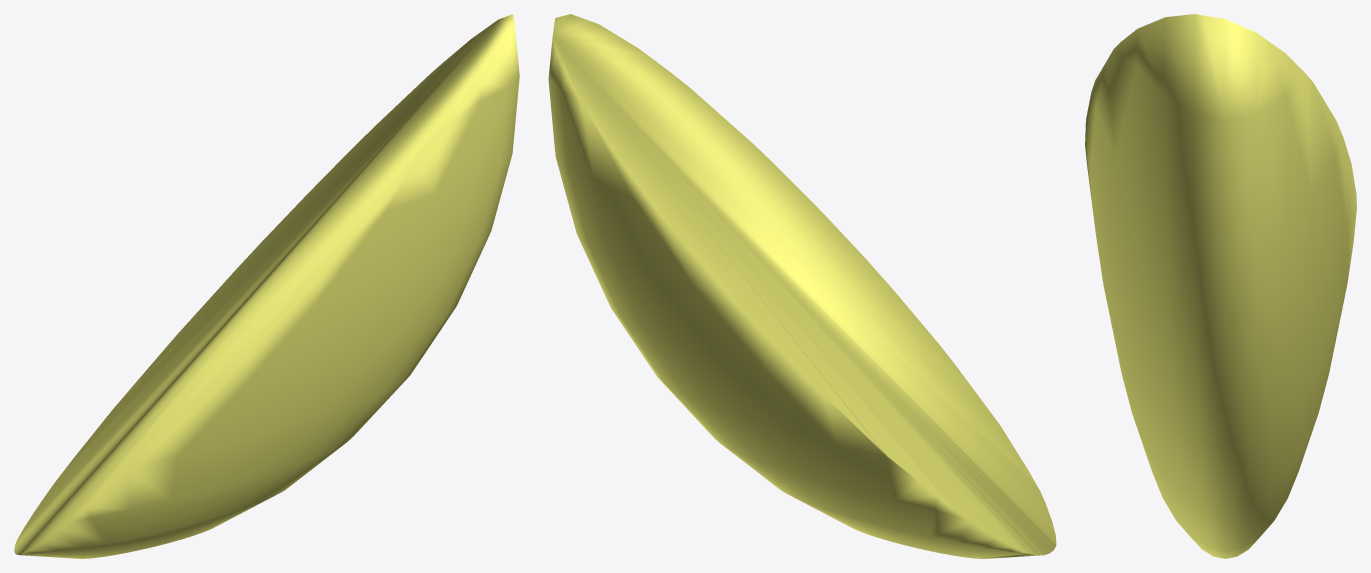
File: Pedazo3 1.fbx
3 renders of one model, left to right at view 1: azimuth 30°, elevation 25°; view 2: azimuth 150°, elevation 25°; view 3: azimuth 270°, elevation 25°, orthographic. The views are drawn at different scales.
Visible parts, largest first — view 1: Sphere.001; view 2: Sphere.001; view 3: Sphere.001.
Boxes of the visible parts, x1=… form: Sphere.001: x1=14, y1=14, x2=519, y2=558; Sphere.001: x1=548, y1=14, x2=1056, y2=558; Sphere.001: x1=1085, y1=14, x2=1356, y2=558.
Size of the model in its own units: 239 by 201 by 63.14.
